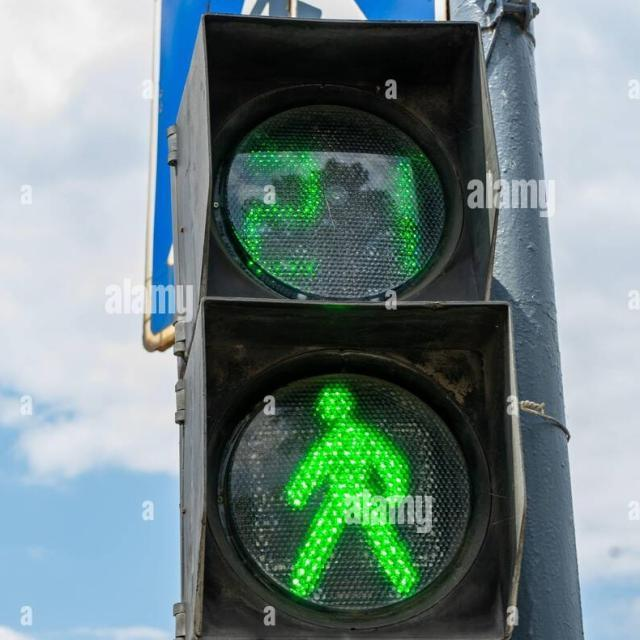geen-crossing: (276, 363, 427, 602)
